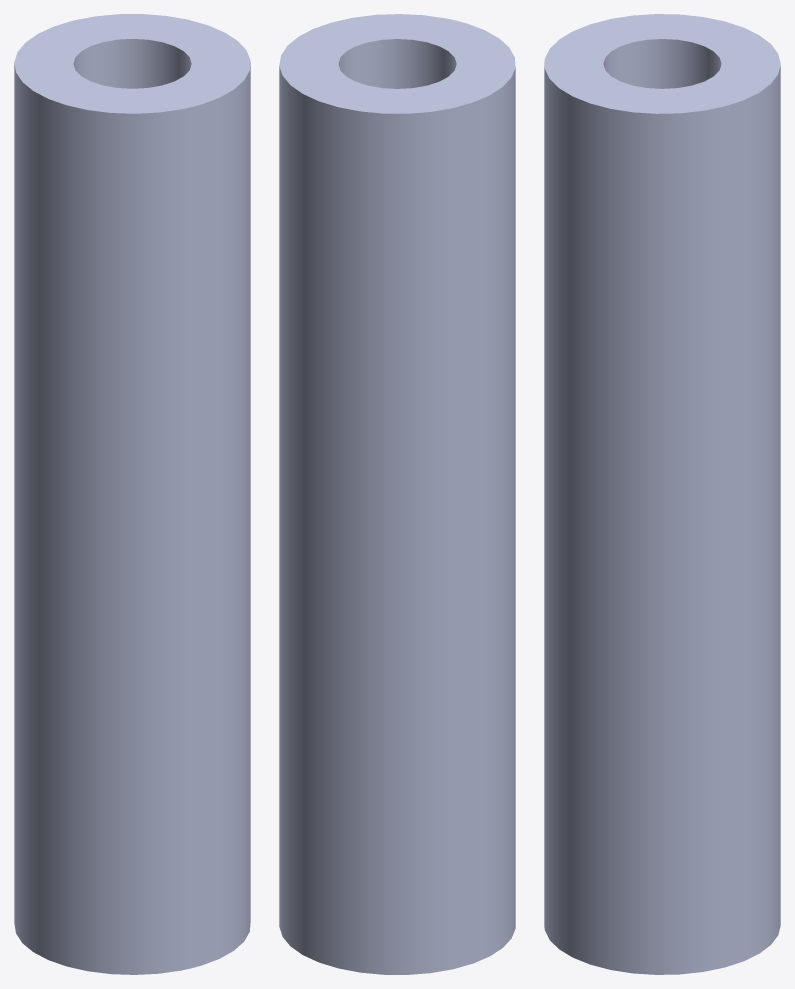
File: Spacer.dae
3 renders of one model, left to right at view 1: azimuth 30°, elevation 25°; view 2: azimuth 150°, elevation 25°; view 3: azimuth 270°, elevation 25°, orthographic.
Parts seen in each view (by area): view 1: Actor0; view 2: Actor0; view 3: Actor0.
Boxes of the visible parts, x1,y1,x2,y2 form: Actor0: (14, 14, 250, 974); Actor0: (279, 14, 515, 974); Actor0: (544, 14, 780, 974).
Bounding box in the file's own units: 0.0254 × 0.102 × 0.0254.
